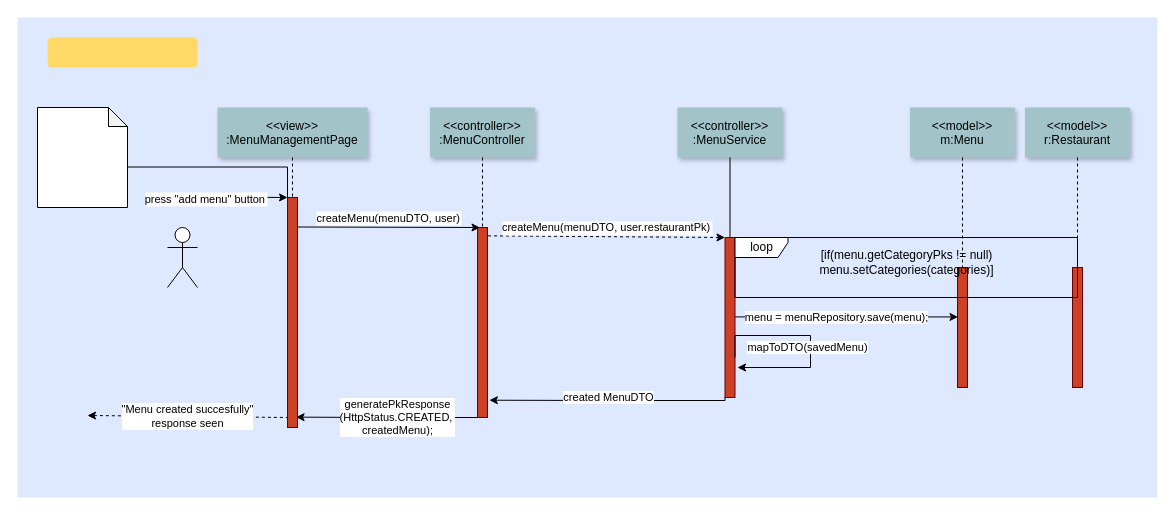
The diagram is 1174 pixels wide and 514 high, and some of its shapes have lost their labels. Each missing label, with the centre of its shape:
"add meal to menu" goes at [122,52].
"name description price imageUrl isAvailable isDrink category" goes at [82,157].
"Restaurant" goes at [182,257].
